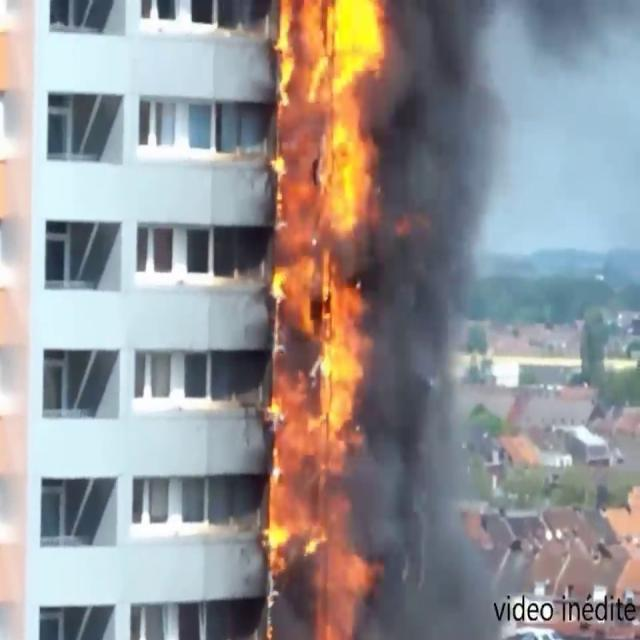Fire: (250, 0, 393, 637)
Smoke: (340, 0, 526, 640)
